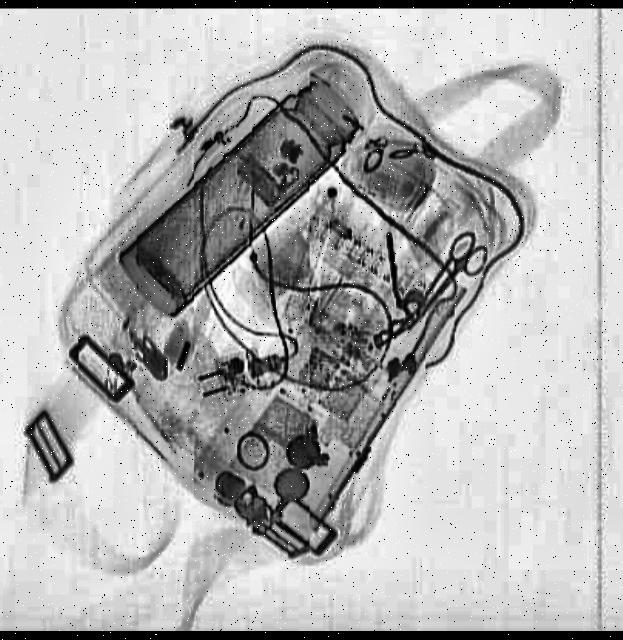Scissors: (409, 229, 498, 332)
